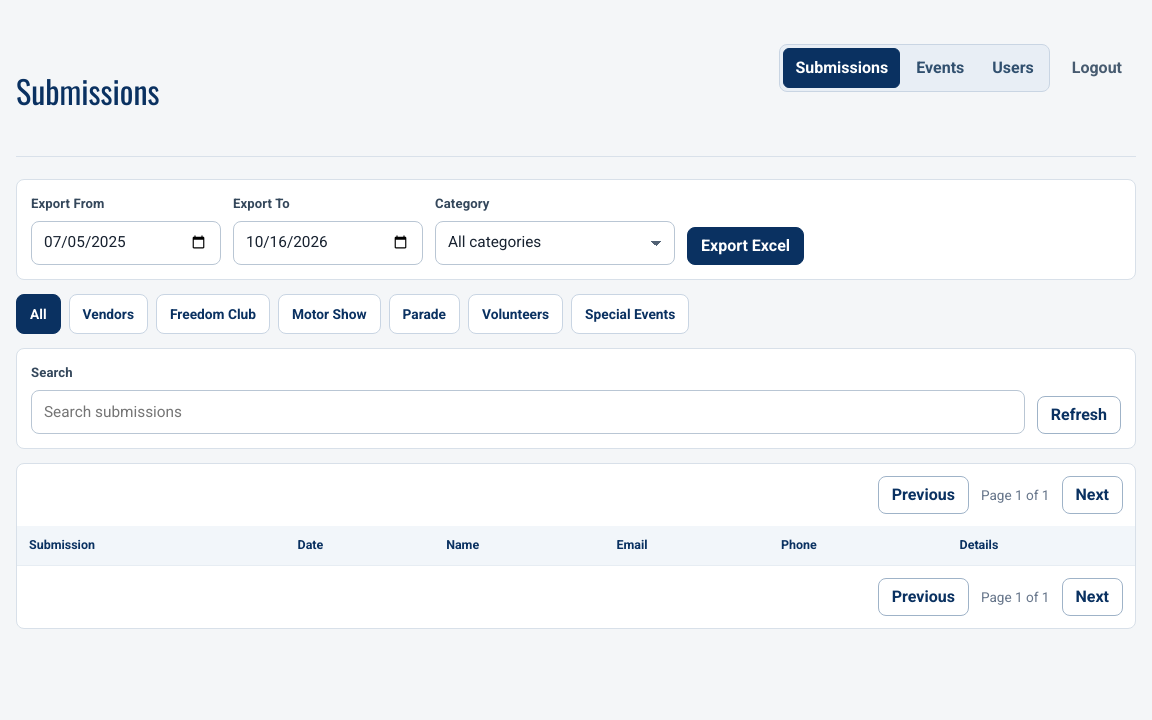
Test: AdminComponent › displays imported motor show order titles as readable labels in the table details and search
Step 1. Click the button with test id "admin-section-submissions" → (842, 68), box [783, 48, 900, 88]
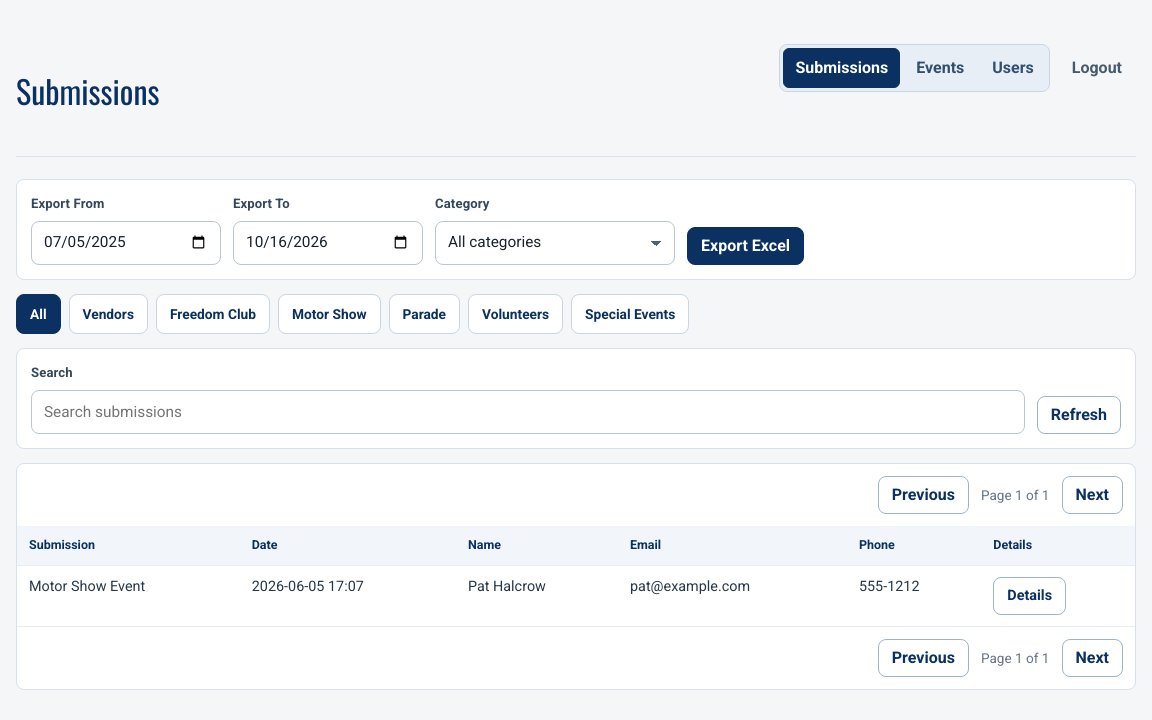
Check: the table with class "submissions-table" shows "Motor Show Event", box [29, 578, 145, 595]
Step 2. Click the row with test id "submission-row-motor-import-1" → (576, 596), box [17, 565, 1135, 626]
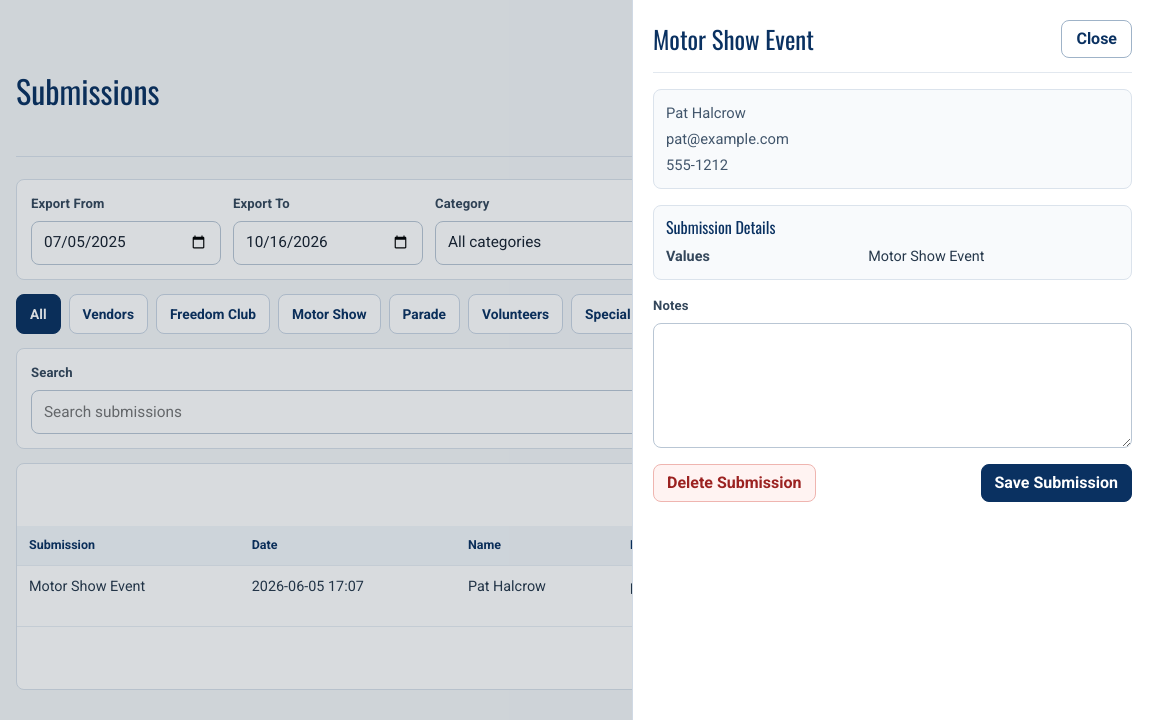
Check: the element with class "submission-detail-panel" shows "Motor Show Event", box [653, 20, 814, 57]
